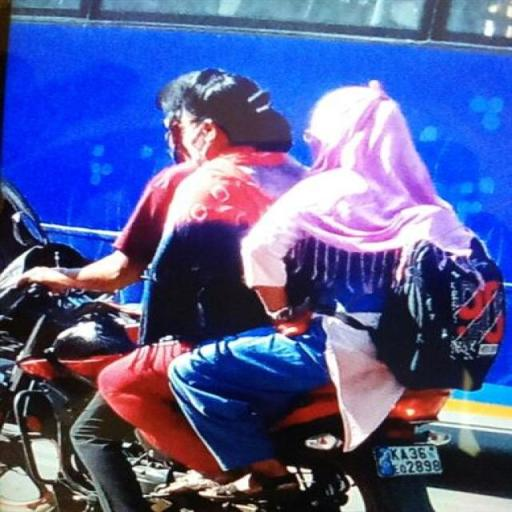tripple riding: (19, 66, 510, 408)
